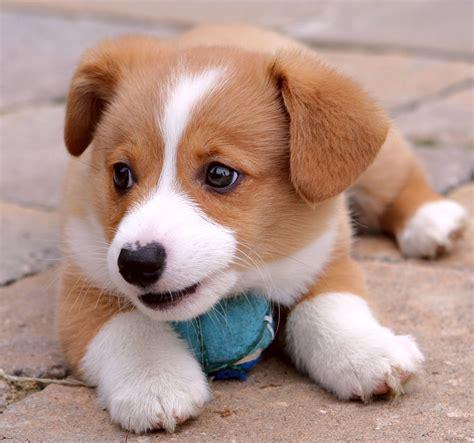dog: (60, 25, 466, 430)
